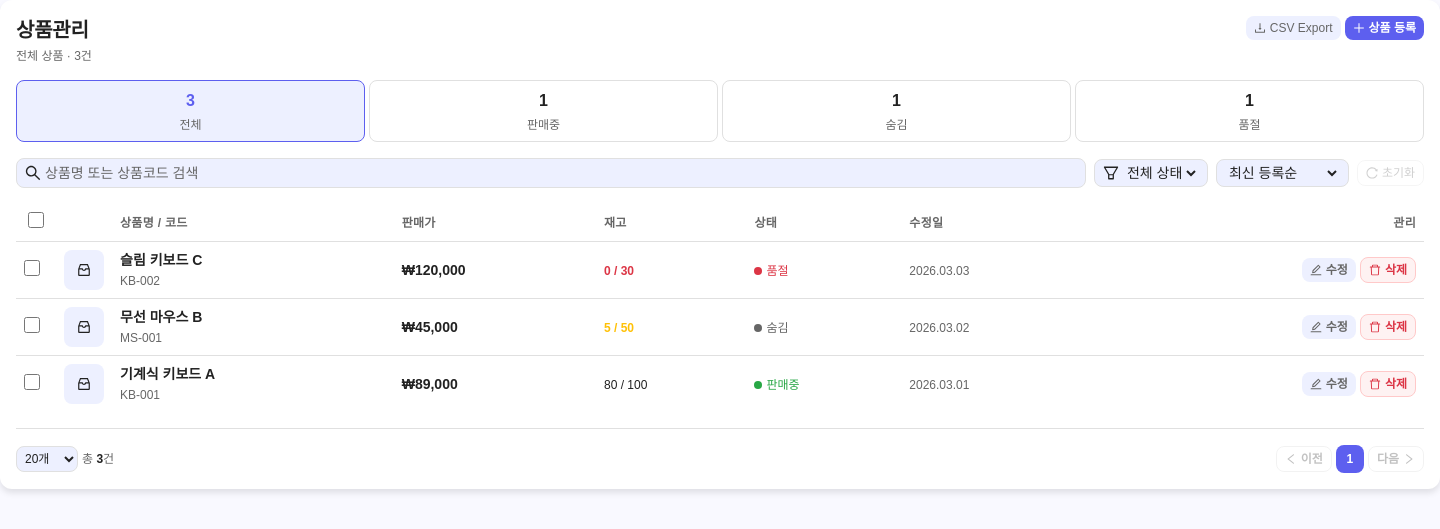
체크박스 선택 › 상품 체크박스 선택 시 BulkActionBar가 나타난다
The image size is (1440, 529).
Click the checkbox named "기계식 키보드 A 선택".
click(32, 382)  # box left=24, top=374, right=40, bottom=390
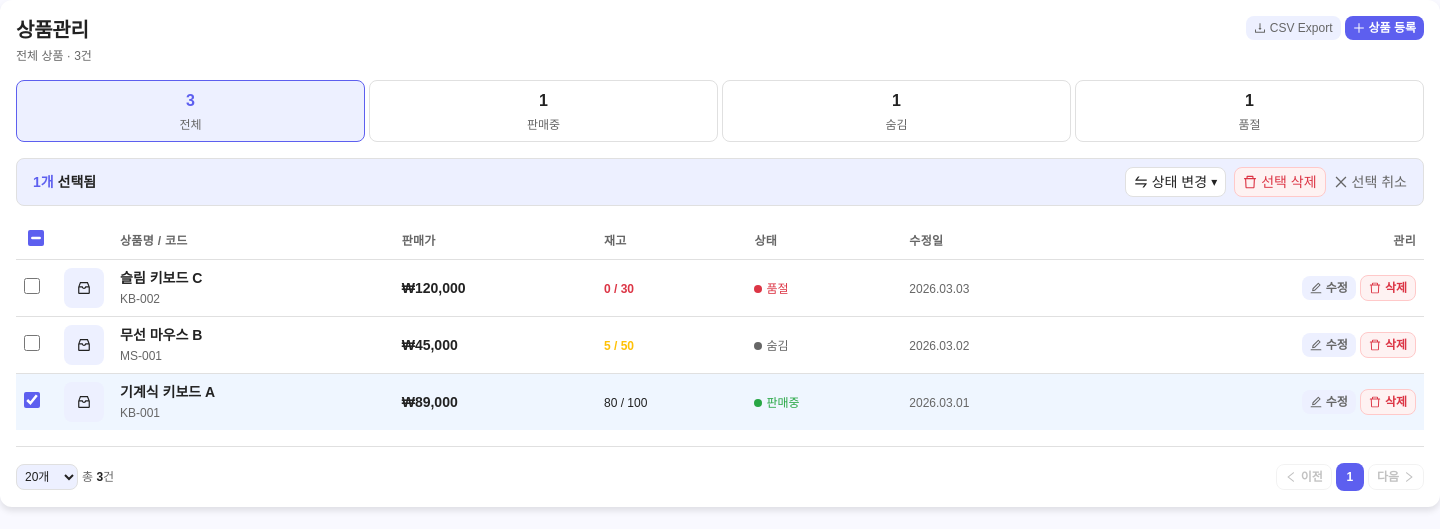
Expected: the text "1개" is shown, left=33, top=174, right=54, bottom=190
Expected: the text "1개 선택됨" is shown, left=33, top=174, right=96, bottom=190
